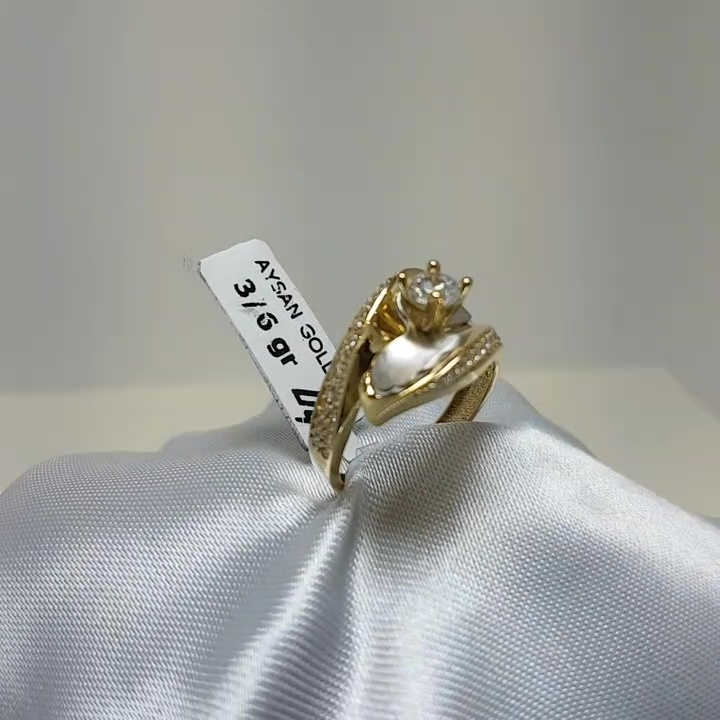Ring 6: (311, 238, 524, 502)
